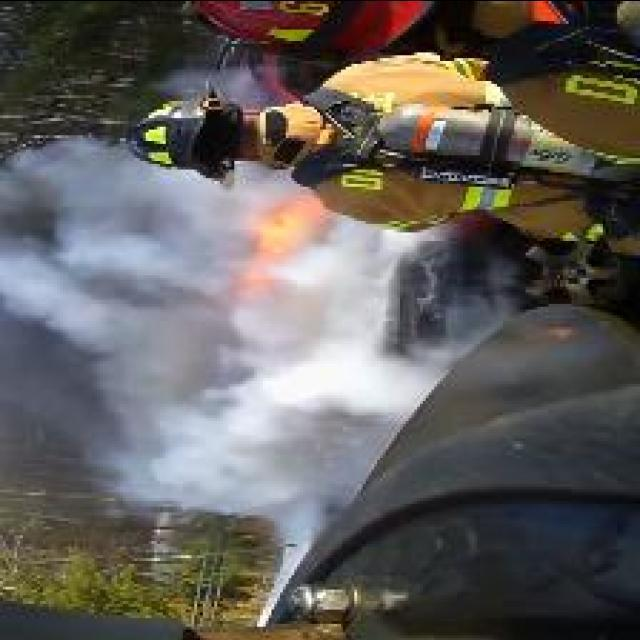Fire: (246, 193, 334, 307)
